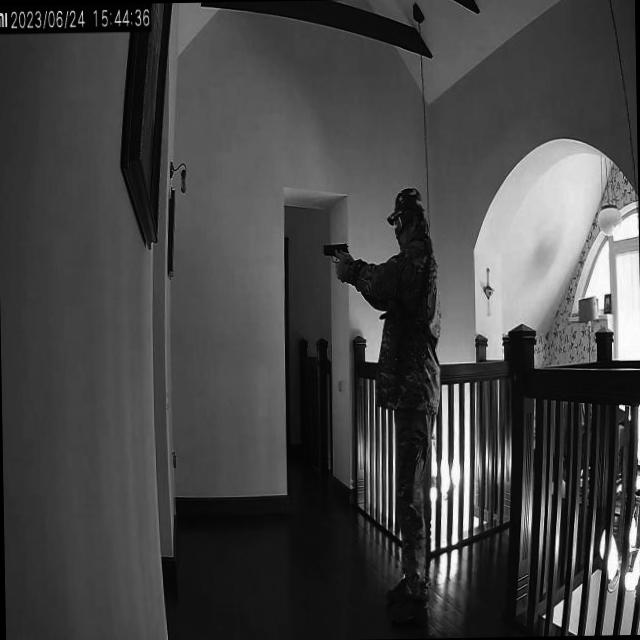gun: (321, 238, 353, 272)
person with a gun: (348, 182, 447, 624)
